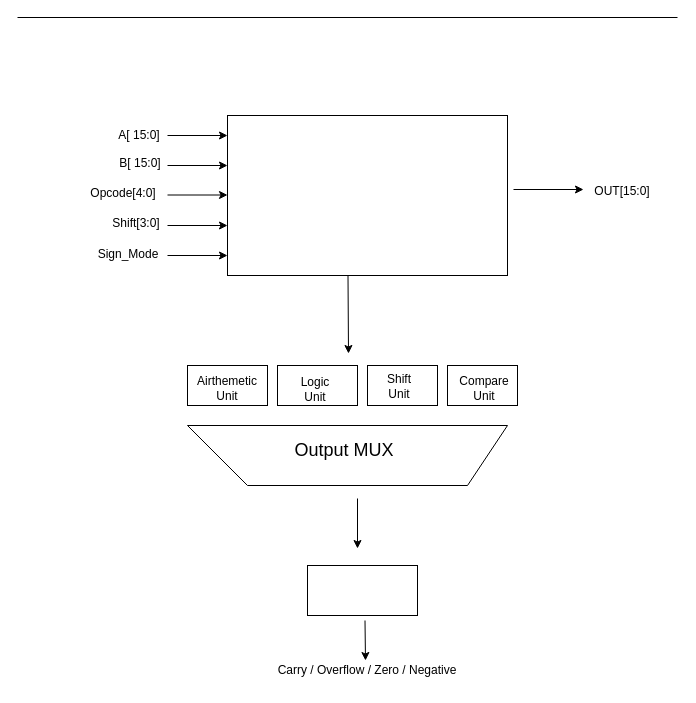
This 696x703 diagram has some shape labels left out. Here are the shapes that lost their labels. From the top down, the centre of each, then its label:
At [367,195]: "Parametric ALU ( Default Width = 16-bit)".
At [362,590]: "Flag Unit".
